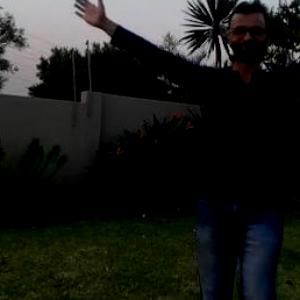takeoff: (101, 0, 299, 299)
